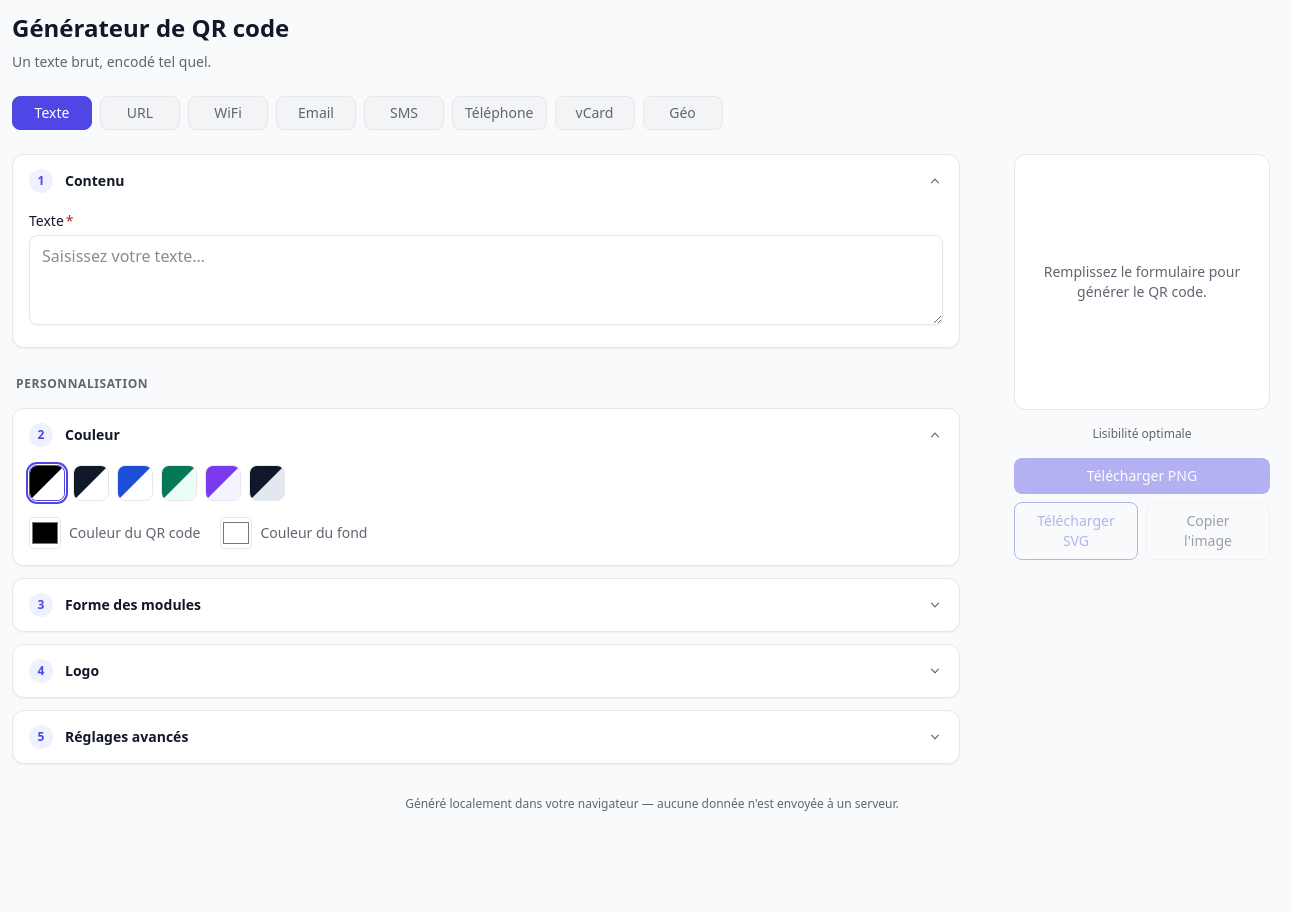
Test case: QrGeneratorPage › change de type de contenu (WiFi) et affiche ses champs
Click the radio button labelled "WiFi": (228, 113) [188, 96, 268, 130]
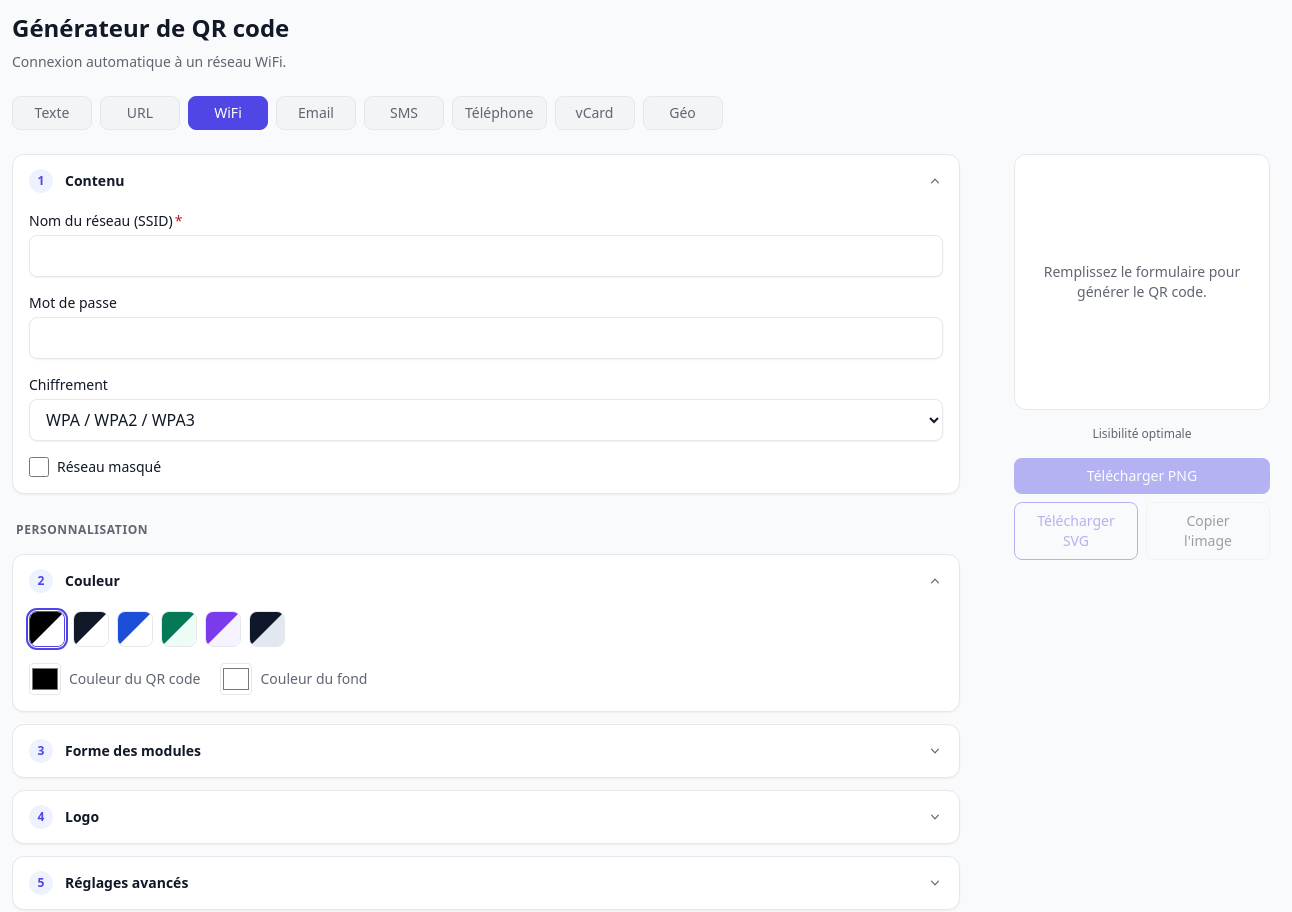
Expected: the text "Nom du réseau (SSID)*" is shown, [29, 211, 182, 230]
